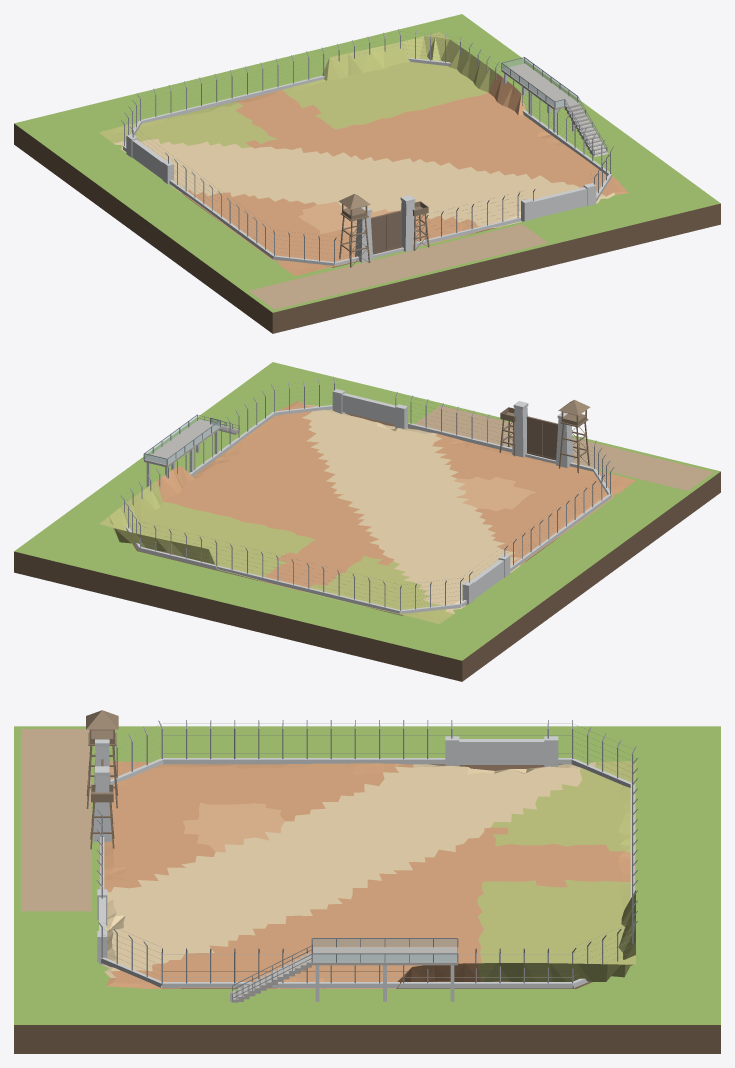
The model's file is enclosure_clean_80x80.glb.
The picture shows the model from 3 angles, top to bottom: view 1: azimuth 30°, elevation 25°; view 2: azimuth 150°, elevation 25°; view 3: azimuth 270°, elevation 25°; orthographic projection. The views are drawn at different scales.
Visible parts, largest first — view 1: Enclosure_Terrain, Outer_Lawn_Border, Diorama_Base_Sides, Access_Road, Fence_Foundation, Fence_Posts, Floodgate_Portals, Main_Gate_Pylons, Deck_Slab, Main_Gate_Doors, Watchtower_Main, Fence_Rails (+3 smaller); view 2: Enclosure_Terrain, Outer_Lawn_Border, Diorama_Base_Sides, Access_Road, Fence_Foundation, Fence_Posts, Floodgate_Portals, Main_Gate_Pylons, Deck_Slab, Main_Gate_Doors, Watchtower_Main, Fence_Rails (+1 smaller); view 3: Enclosure_Terrain, Outer_Lawn_Border, Diorama_Base_Sides, Access_Road, Fence_Foundation, Floodgate_Portals, Fence_Posts, Deck_Slab, Fence_Rails, Deck_Rail_Glass, Main_Gate_Pylons, Watchtower_Main (+3 smaller).
Boxes of the visible parts, left/top/right/bottom form: Enclosure_Terrain: left=99, top=32, right=628, bottom=276; Outer_Lawn_Border: left=14, top=14, right=720, bottom=312; Diorama_Base_Sides: left=14, top=123, right=720, bottom=333; Access_Road: left=249, top=224, right=547, bottom=309; Fence_Foundation: left=123, top=58, right=611, bottom=266; Fence_Posts: left=121, top=29, right=613, bottom=262; Floodgate_Portals: left=126, top=134, right=596, bottom=221; Main_Gate_Pylons: left=355, top=195, right=417, bottom=262; Deck_Slab: left=501, top=63, right=577, bottom=109; Main_Gate_Doors: left=371, top=210, right=402, bottom=254; Watchtower_Main: left=338, top=194, right=370, bottom=267; Fence_Rails: left=125, top=31, right=609, bottom=258; Enclosure_Terrain: left=99, top=401, right=635, bottom=624; Outer_Lawn_Border: left=14, top=362, right=720, bottom=660; Diorama_Base_Sides: left=14, top=412, right=720, bottom=681; Access_Road: left=415, top=405, right=713, bottom=490; Fence_Foundation: left=126, top=405, right=611, bottom=614; Fence_Posts: left=120, top=376, right=614, bottom=610; Floodgate_Portals: left=332, top=389, right=510, bottom=605; Main_Gate_Pylons: left=512, top=401, right=573, bottom=468; Deck_Slab: left=144, top=421, right=220, bottom=467; Main_Gate_Doors: left=526, top=416, right=558, bottom=460; Watchtower_Main: left=558, top=399, right=590, bottom=473; Fence_Rails: left=125, top=379, right=609, bottom=606; Enclosure_Terrain: left=99, top=761, right=635, bottom=988; Outer_Lawn_Border: left=14, top=726, right=720, bottom=1024; Diorama_Base_Sides: left=14, top=764, right=720, bottom=1053; Access_Road: left=21, top=729, right=91, bottom=911; Fence_Foundation: left=100, top=758, right=634, bottom=988; Floodgate_Portals: left=97, top=736, right=558, bottom=964; Fence_Posts: left=96, top=720, right=638, bottom=983; Deck_Slab: left=312, top=947, right=457, bottom=965; Fence_Rails: left=103, top=723, right=632, bottom=977; Deck_Rail_Glass: left=313, top=939, right=456, bottom=961; Main_Gate_Pylons: left=93, top=739, right=111, bottom=841; Watchtower_Main: left=86, top=710, right=118, bottom=808.
Bounding box in the file's own units: 80 × 15.12 × 80.
